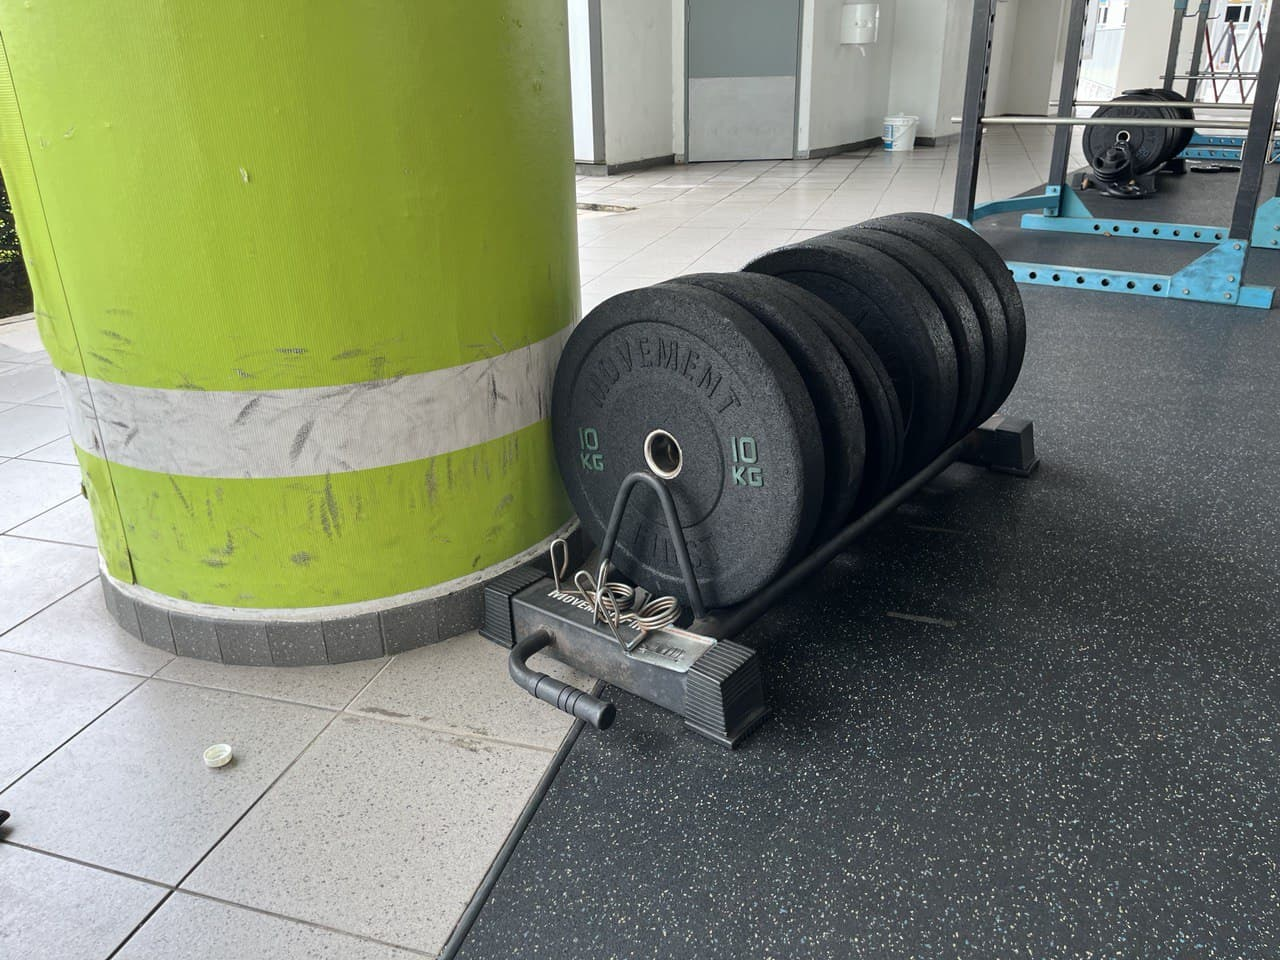weights: (544, 276, 828, 614)
